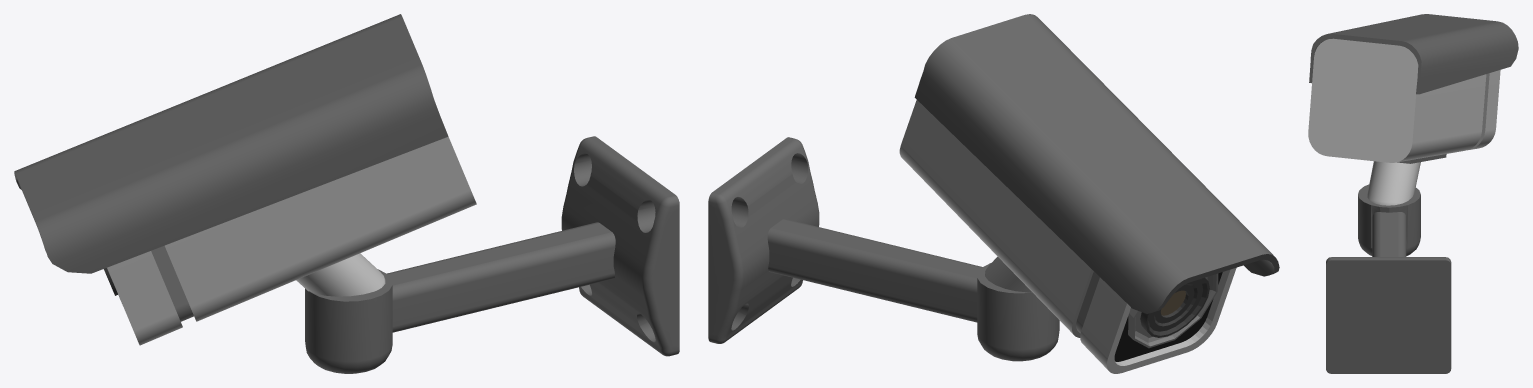
The model's file is security_camera.glb.
The picture shows the model from 3 angles, left to right: view 1: azimuth 30°, elevation 25°; view 2: azimuth 150°, elevation 25°; view 3: azimuth 270°, elevation 25°; orthographic projection. The views are drawn at different scales.
Parts seen in each view (by area): view 1: Security_Camera; view 2: Security_Camera; view 3: Security_Camera.
Part boxes in pixels (x1,y1,x2,y2): Security_Camera: (14,14,679,373); Security_Camera: (708,14,1279,373); Security_Camera: (1308,14,1518,373).
Size of the model in its own units: 0.1018 by 0.06 by 0.0449.
Materials: 1 (1 with a texture image).
